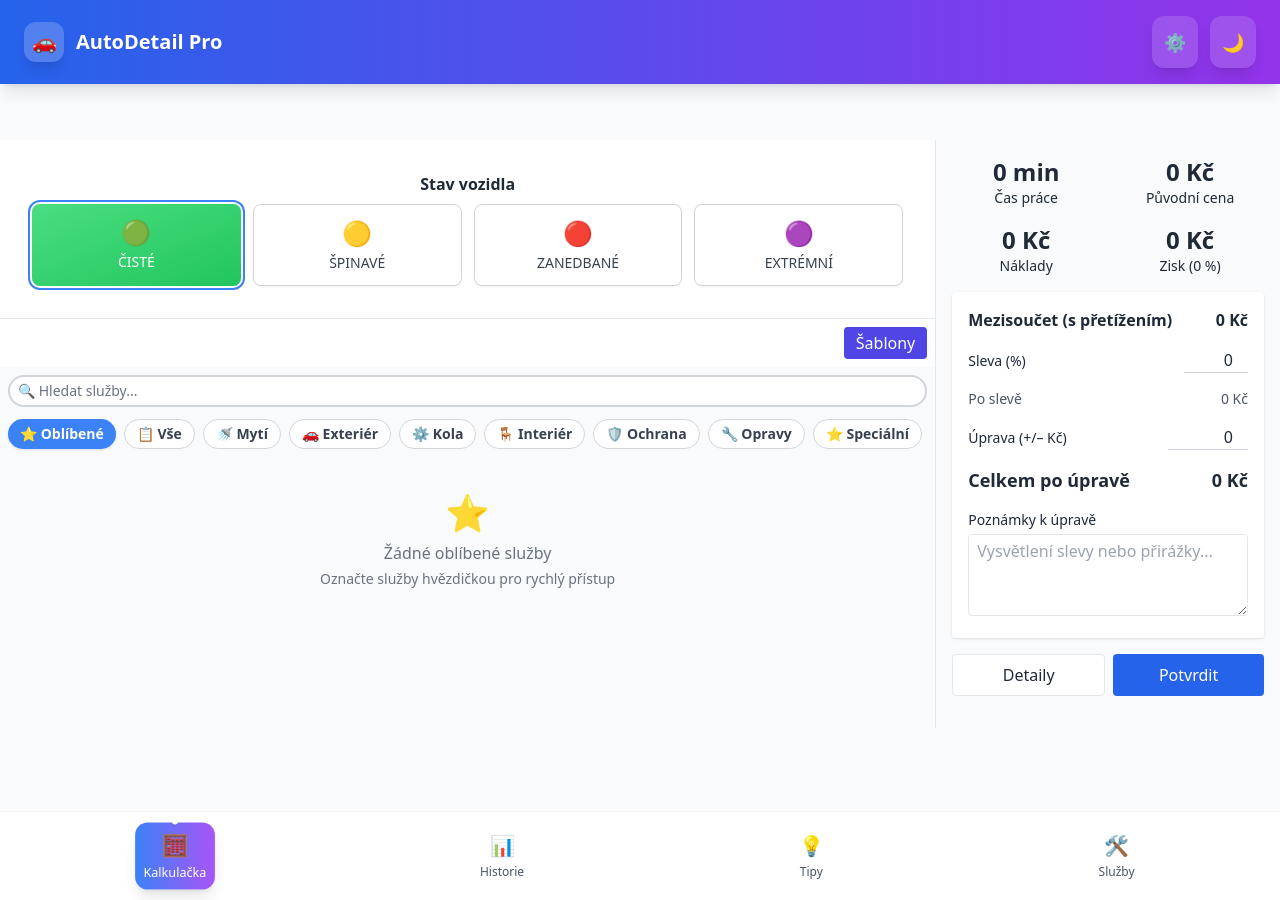
App › opens configuration sidebar
The width and height of the screenshot is (1280, 900).
Click the button titled "Nastavení" at (1175, 42), box [1152,16,1198,68]
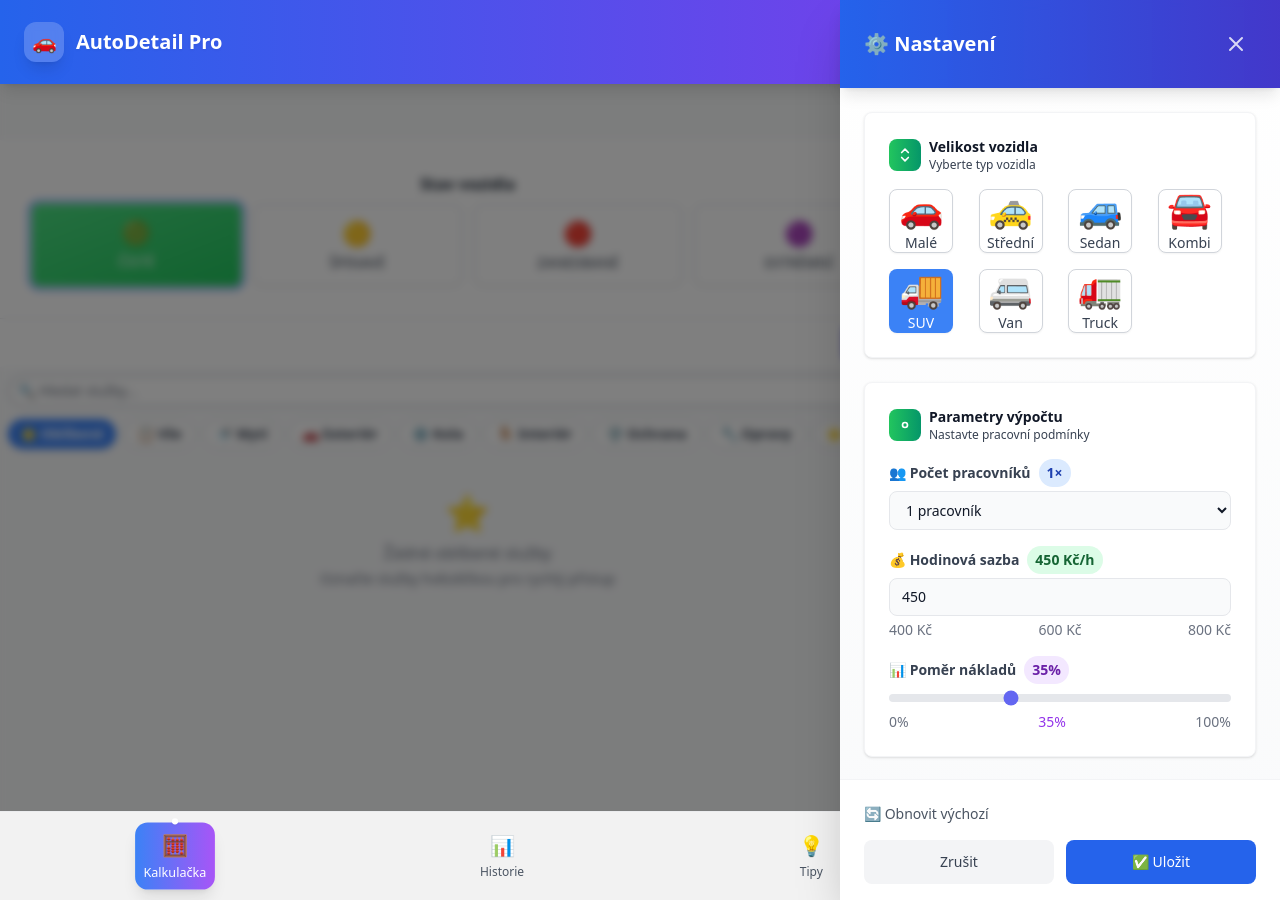
Now the dialog "Nastavení" is shown, box [840,0,1279,899]
